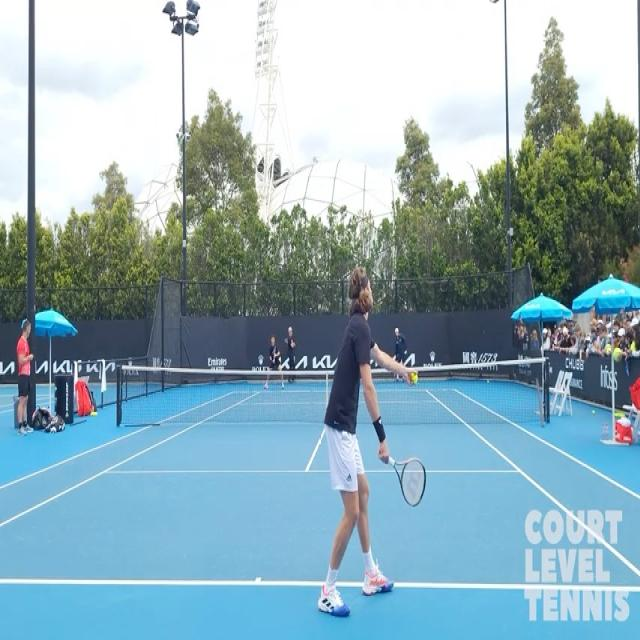serve_ready: (316, 260, 432, 626)
